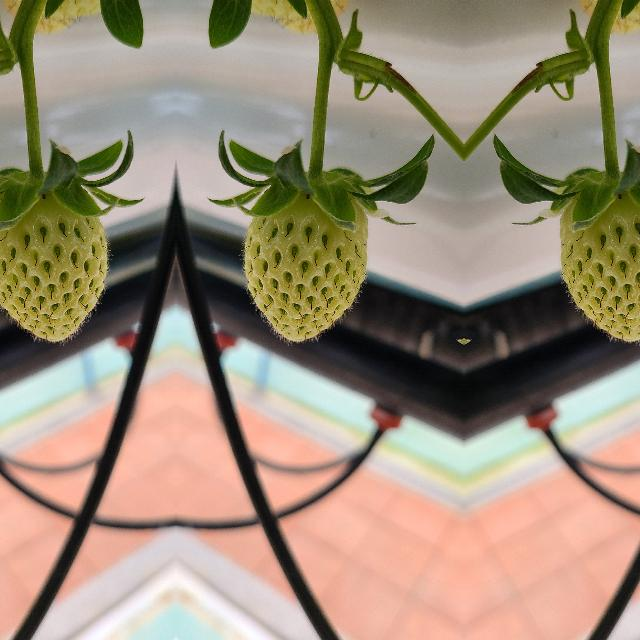Health_25: (244, 193, 366, 341), (0, 193, 106, 341), (560, 193, 640, 341)
